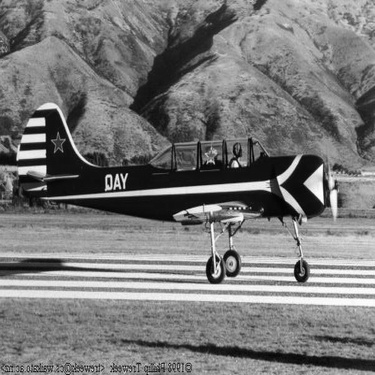airplane: (8, 96, 347, 292)
